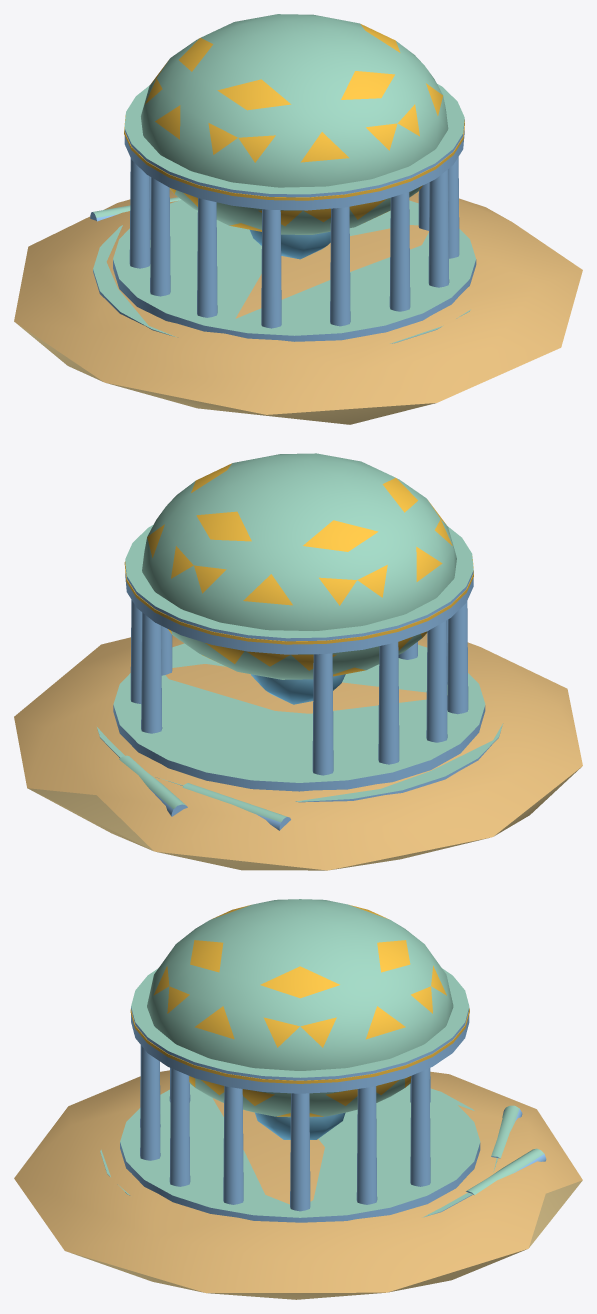
Rendered from AtlantisTemple.fbx.
3 renders of one model, top to bottom at view 1: azimuth 30°, elevation 25°; view 2: azimuth 150°, elevation 25°; view 3: azimuth 270°, elevation 25°, orthographic. The views are drawn at different scales.
Visible parts, largest first — view 1: AtlantisTemple; view 2: AtlantisTemple; view 3: AtlantisTemple.
Part boxes in pixels (x1,y1,x2,y2): AtlantisTemple: (14,14,582,424); AtlantisTemple: (14,453,582,870); AtlantisTemple: (14,899,582,1299).
Bounding box in the file's own units: 24.8 × 15.15 × 25.9.
Materials: 2 (2 with a texture image).
